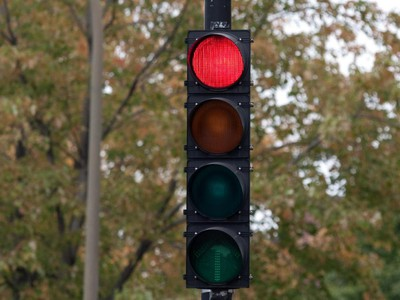trafficlight_red: (185, 32, 250, 290)
